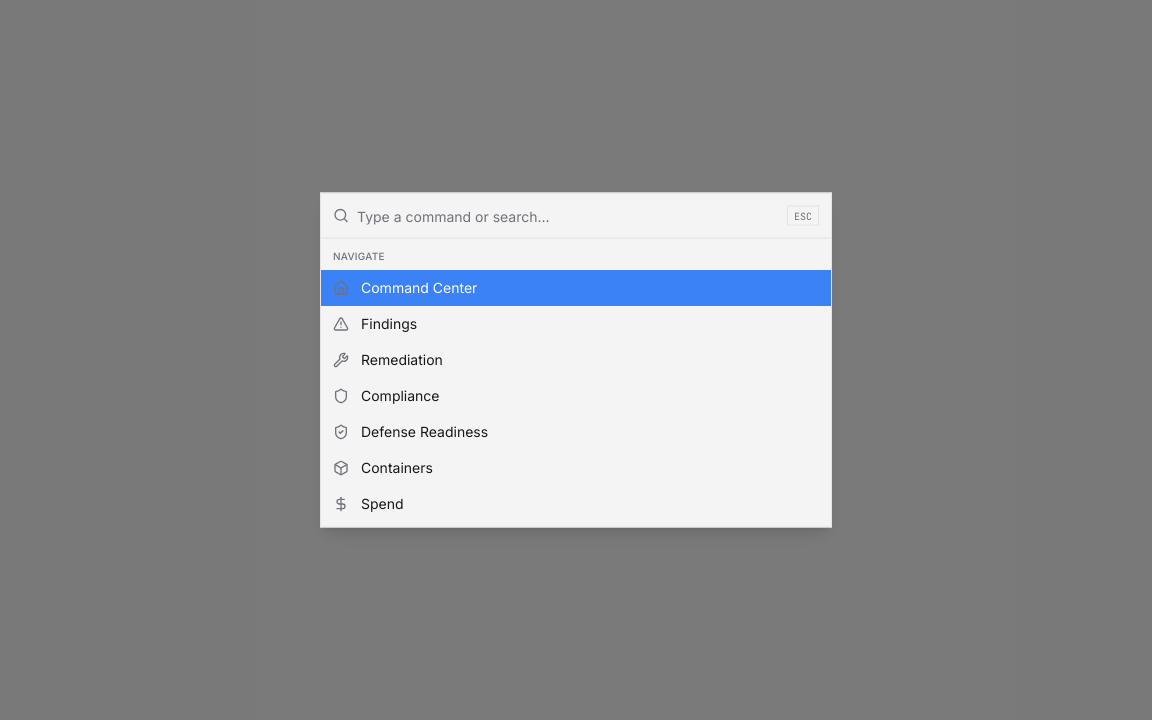
Test: CommandPalette › shows no results message when query has no match
In the field with placeholder "Type a command or search...": (568, 216) [357,194,779,238], type "zzzznothing"
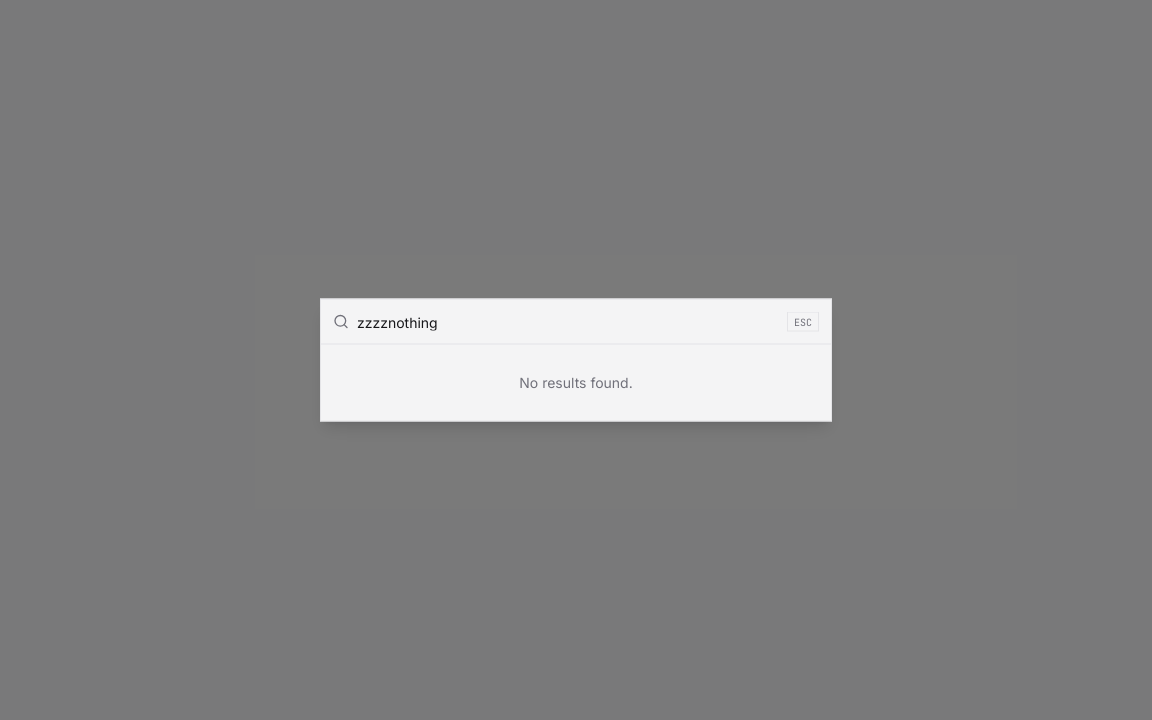
Check: the text "No results found." is shown, box [519,374,633,390]
